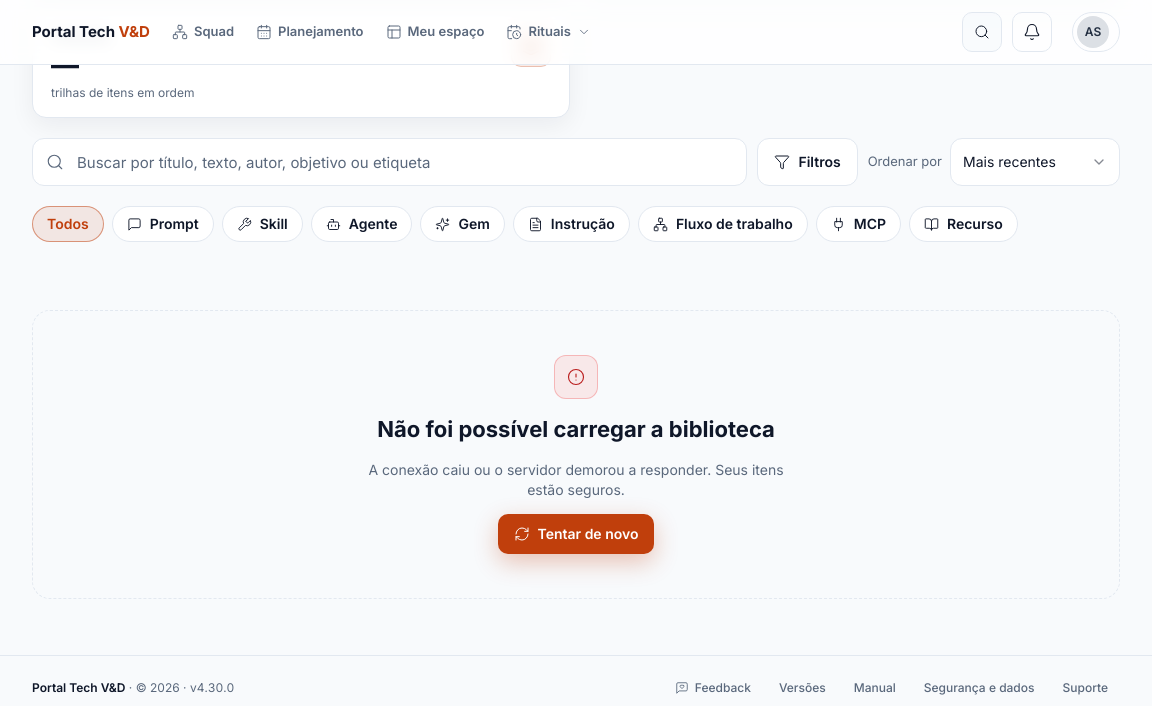
Test: Catálogo › erro mostra "Tentar de novo" e recupera
The image size is (1152, 706).
(page scrolled)
Expected: the heading "Não foi possível carregar a biblioteca" is shown, [377,413,775,446]
Click the button "Tentar de novo": (576, 534) [498,514,654,554]
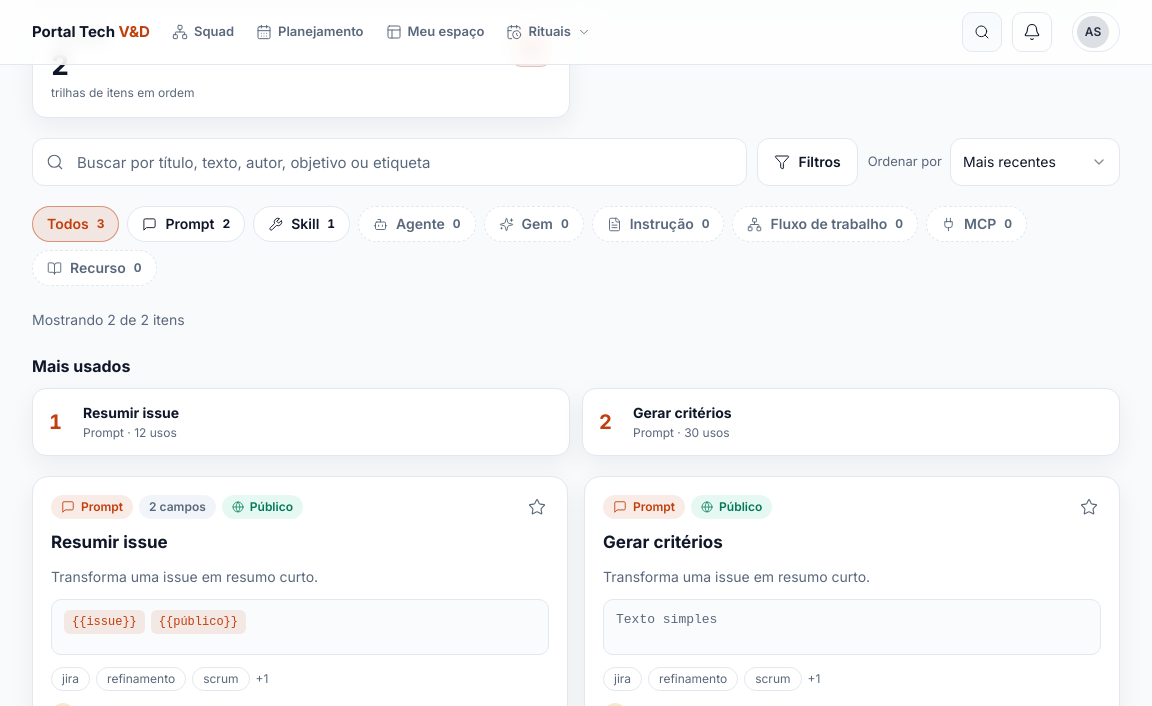
Result: the text "Resumir issue" below "Mais usados" is shown at [83,404,179,421]
